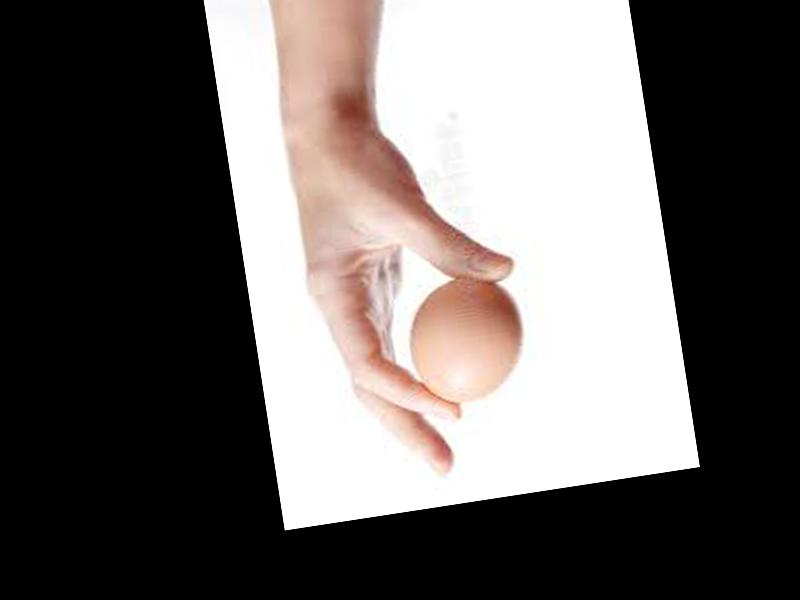Eggs: (403, 268, 530, 408)
